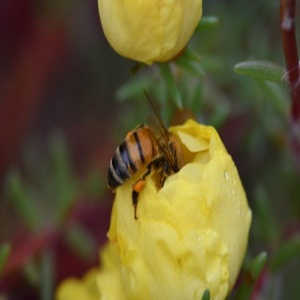bee: (105, 123, 182, 208)
